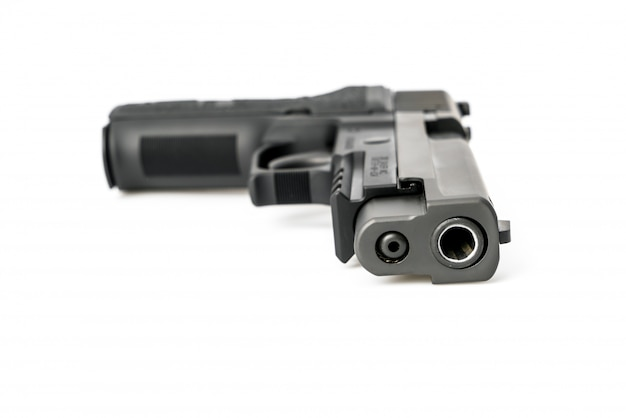gun: (100, 80, 512, 286)
